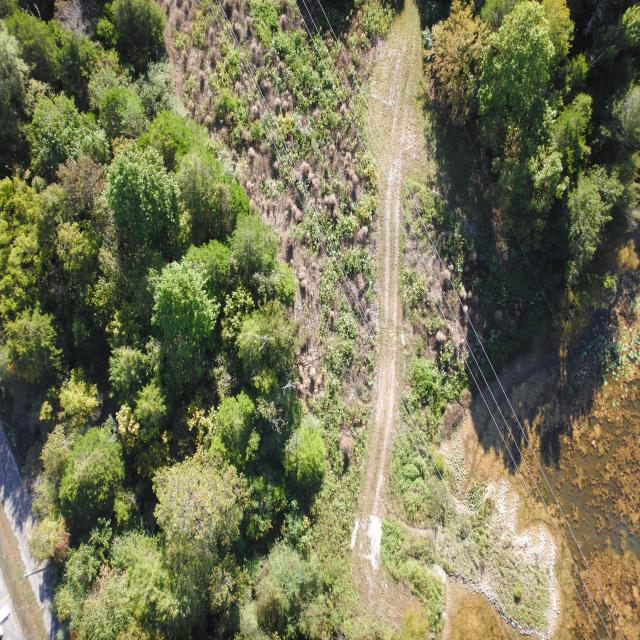Area of Interest: (10, 26, 309, 624), (453, 5, 632, 288)
